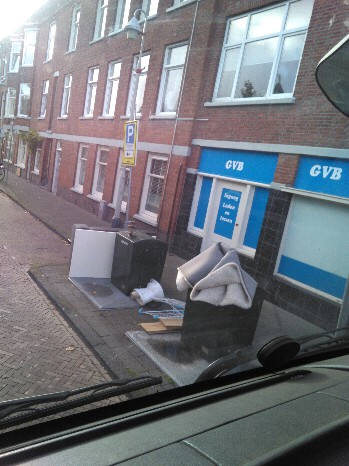Container: (187, 292, 246, 356), (118, 235, 161, 287)
Rest: (184, 244, 246, 302), (70, 227, 112, 284), (125, 292, 183, 329), (136, 281, 157, 305)
